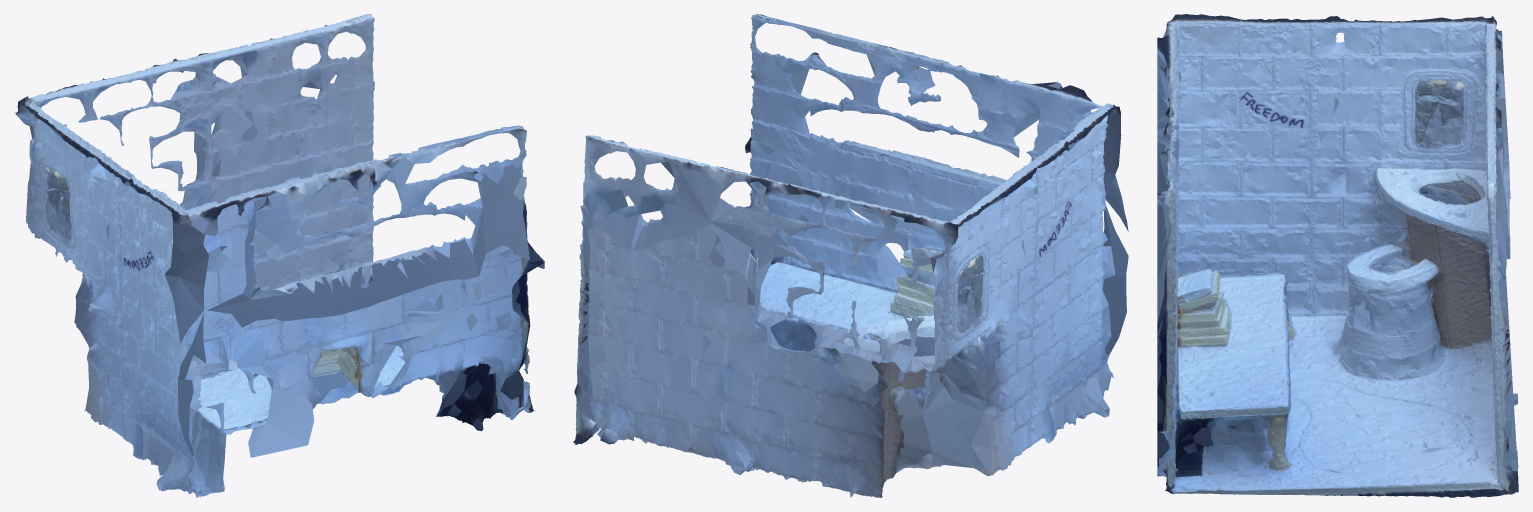
The picture shows the model from 3 angles, left to right: view 1: azimuth 30°, elevation 25°; view 2: azimuth 150°, elevation 25°; view 3: azimuth 270°, elevation 25°; orthographic projection. The views are drawn at different scales.
Parts seen in each view (by area): view 1: Noah; view 2: Noah; view 3: Noah.
Part boxes in pixels (<box>): Noah: <box>14,14,544,497</box>; Noah: <box>573,14,1128,497</box>; Noah: <box>1157,14,1518,497</box>.
Size of the model in its own units: 0.44 by 0.3336 by 0.3637.
Materials: 1 (1 with a texture image).
